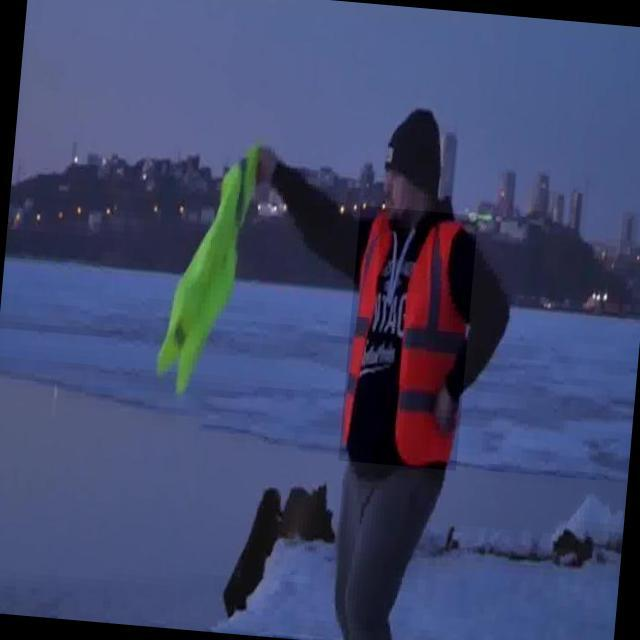Person: (143, 83, 533, 640)
Safety Vest: (338, 205, 478, 471), (154, 151, 249, 393)
bare-arms: (422, 378, 463, 446), (249, 146, 284, 196)
no-helmet: (378, 99, 448, 210)
